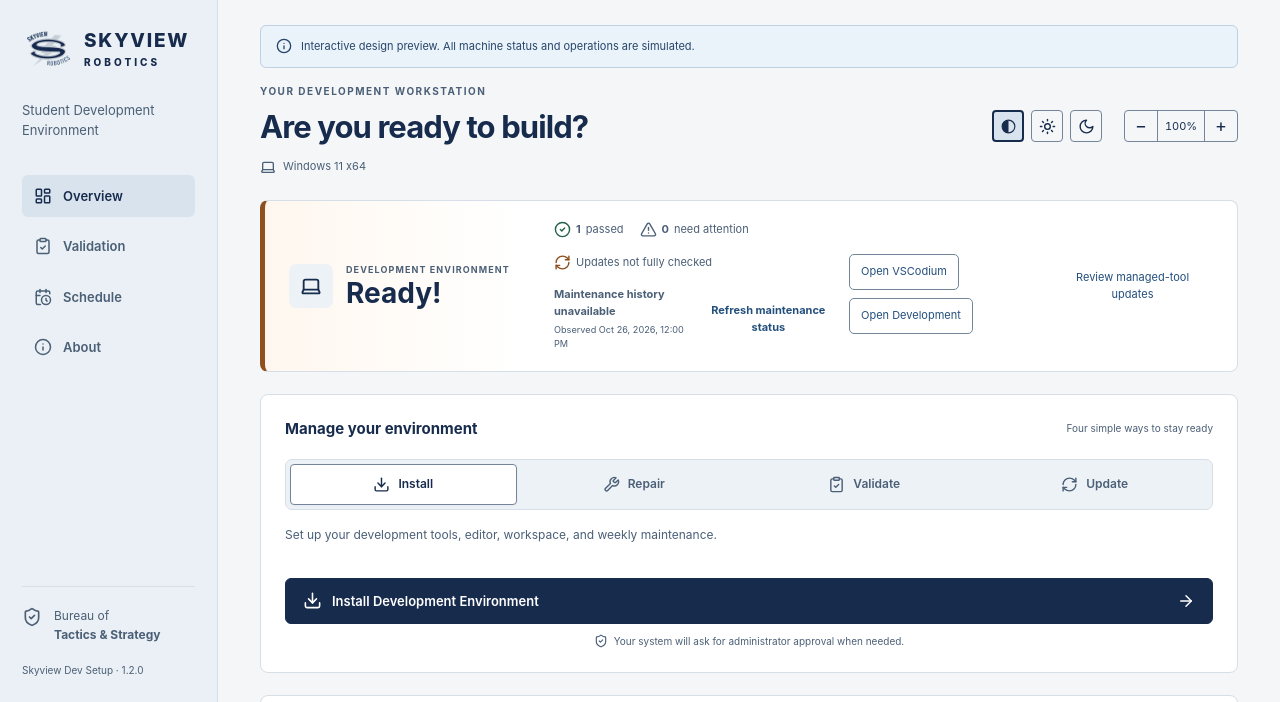
Scenario: reads and refreshes Schedule, displays never-run history, and recovers from errors
Check: the heading "Ready!" is shown, box [346,276,442,310]
Step 1. Click the button "Schedule" → x=108, y=297, box [22,276,195,318]
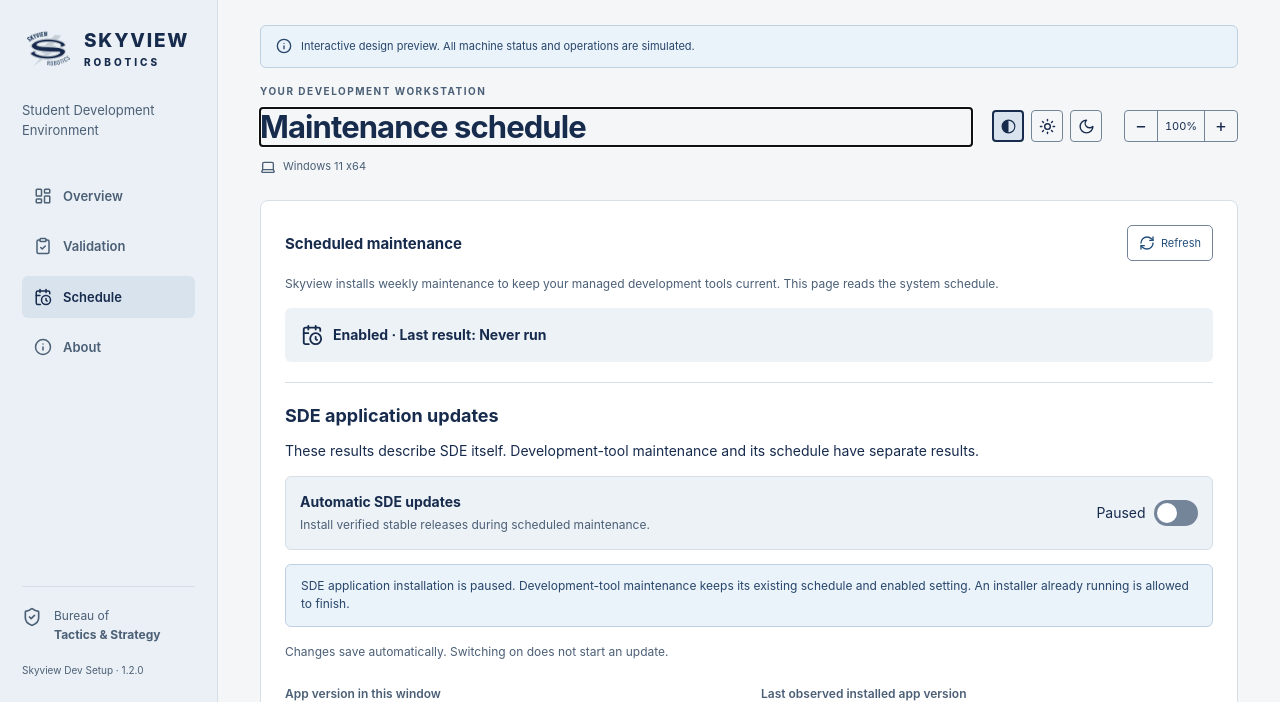
Check: the text "Paused" is shown, box [1096,504,1146,521]
Step 2. Click the button "Refresh" → x=1170, y=243, box [1127,225,1213,261]
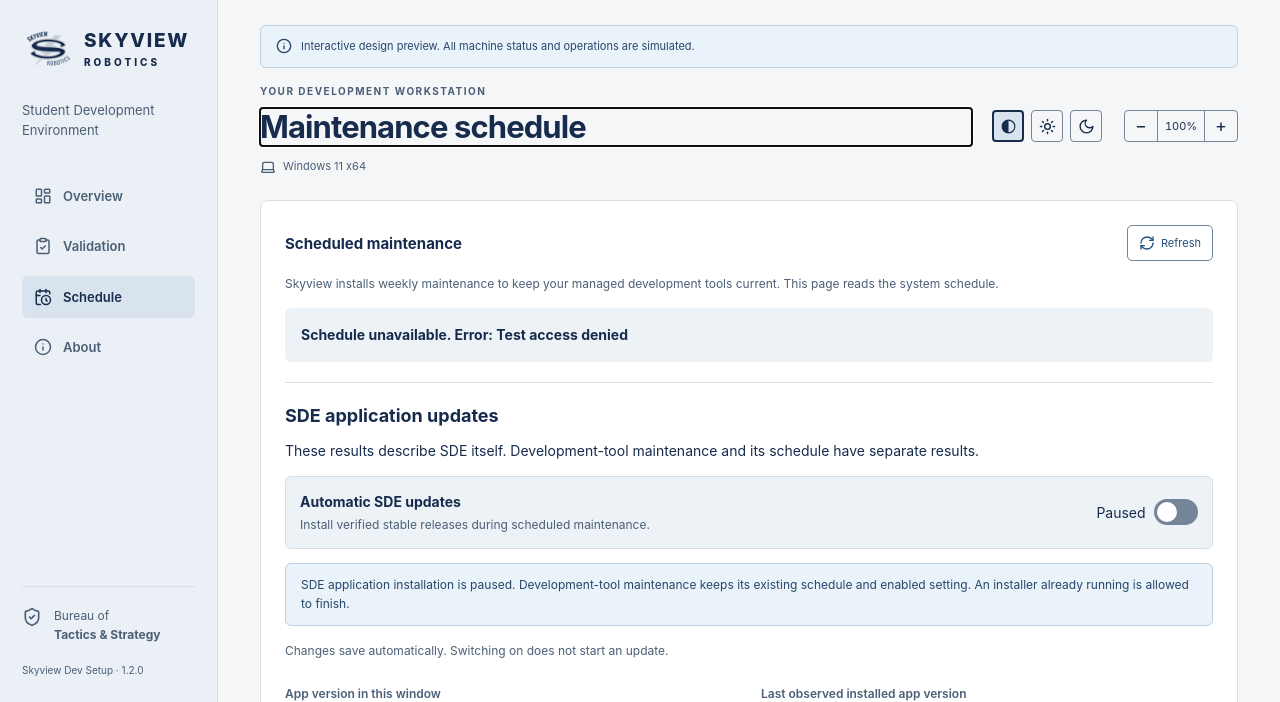
Check: the text "Test timer" is not shown
Check: the text "Schedule unavailable. Error: Test access denied" is shown, box [285,308,1213,362]
Step 3. Click the button "Refresh" → x=1170, y=243, box [1127,225,1213,261]
(page scrolled)
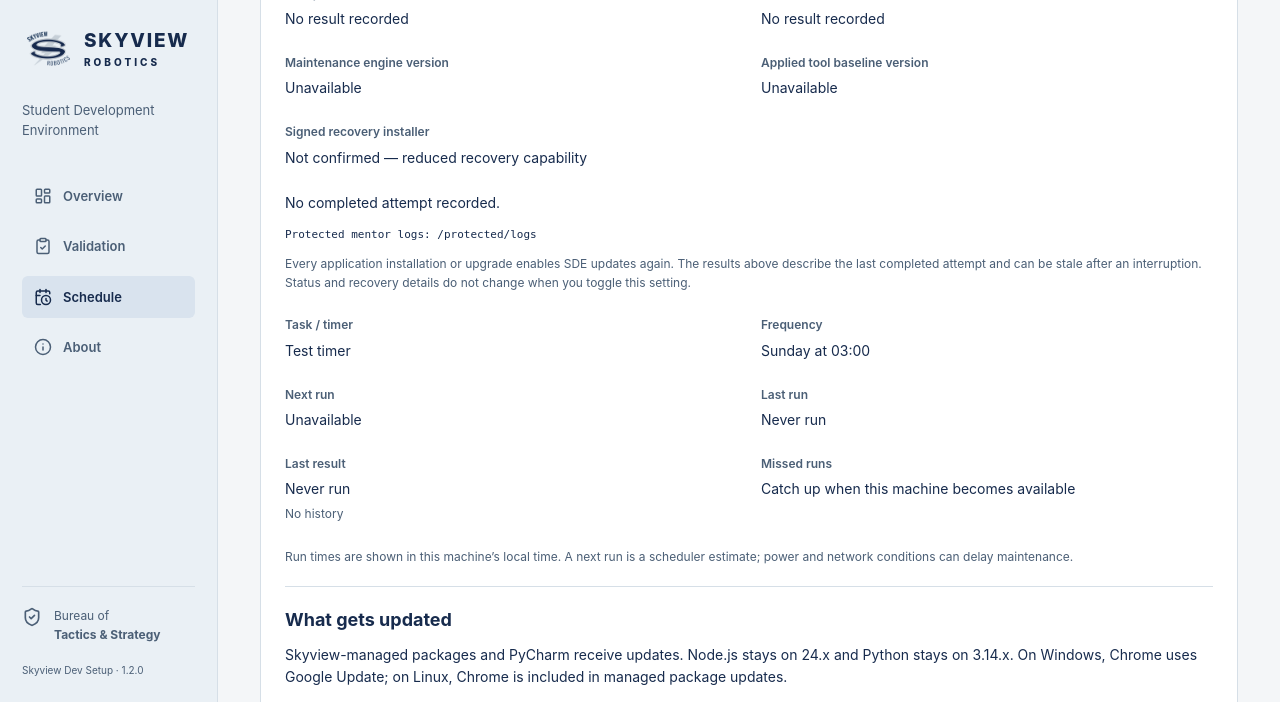
Check: the text "Test timer" is shown, box [285,342,351,359]
